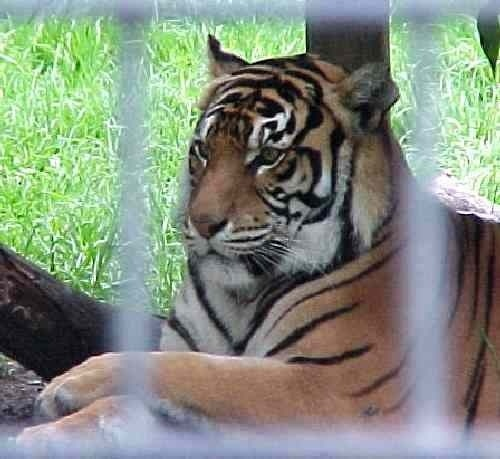tigre: (19, 32, 499, 457)
